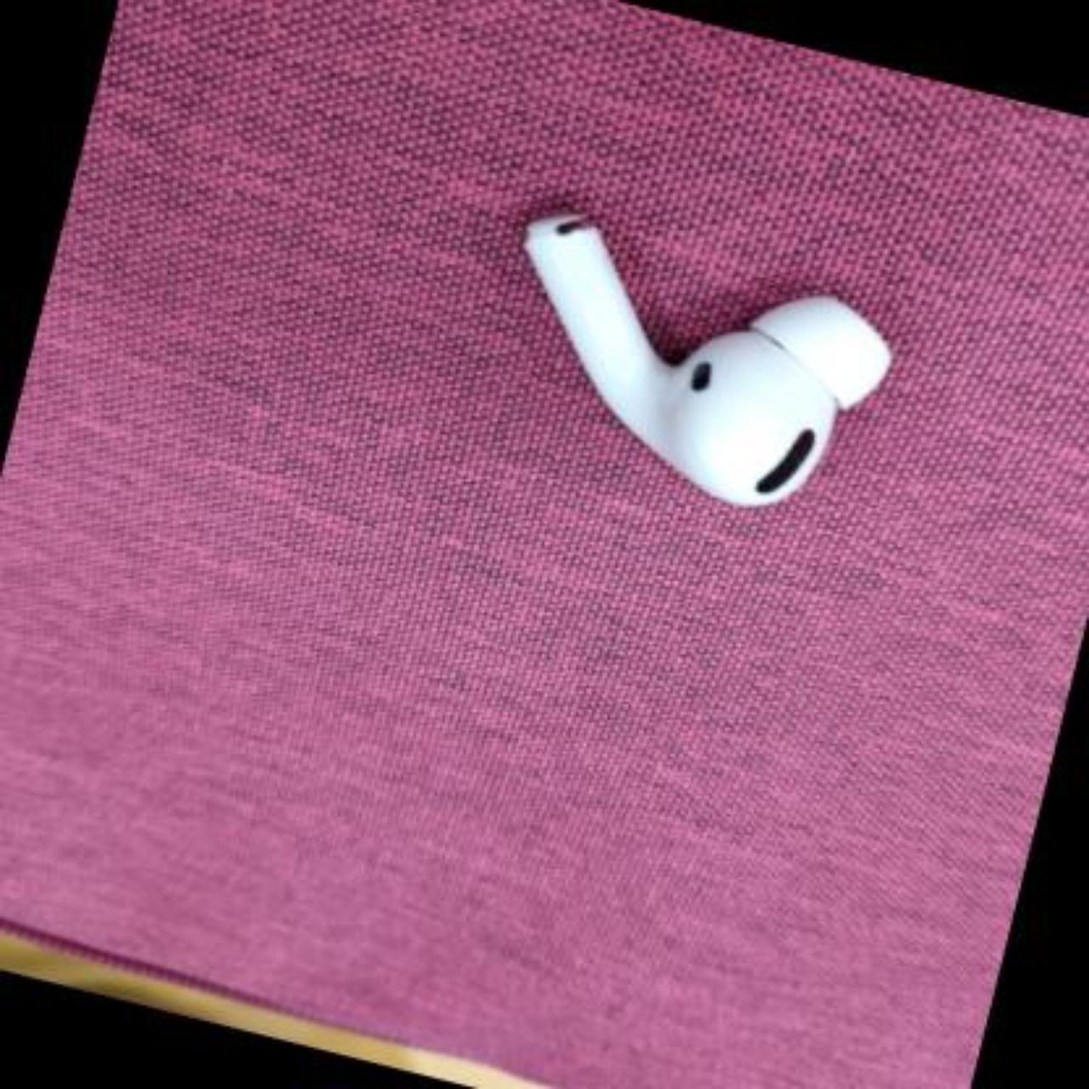Airpods_Units: (442, 172, 915, 562)
